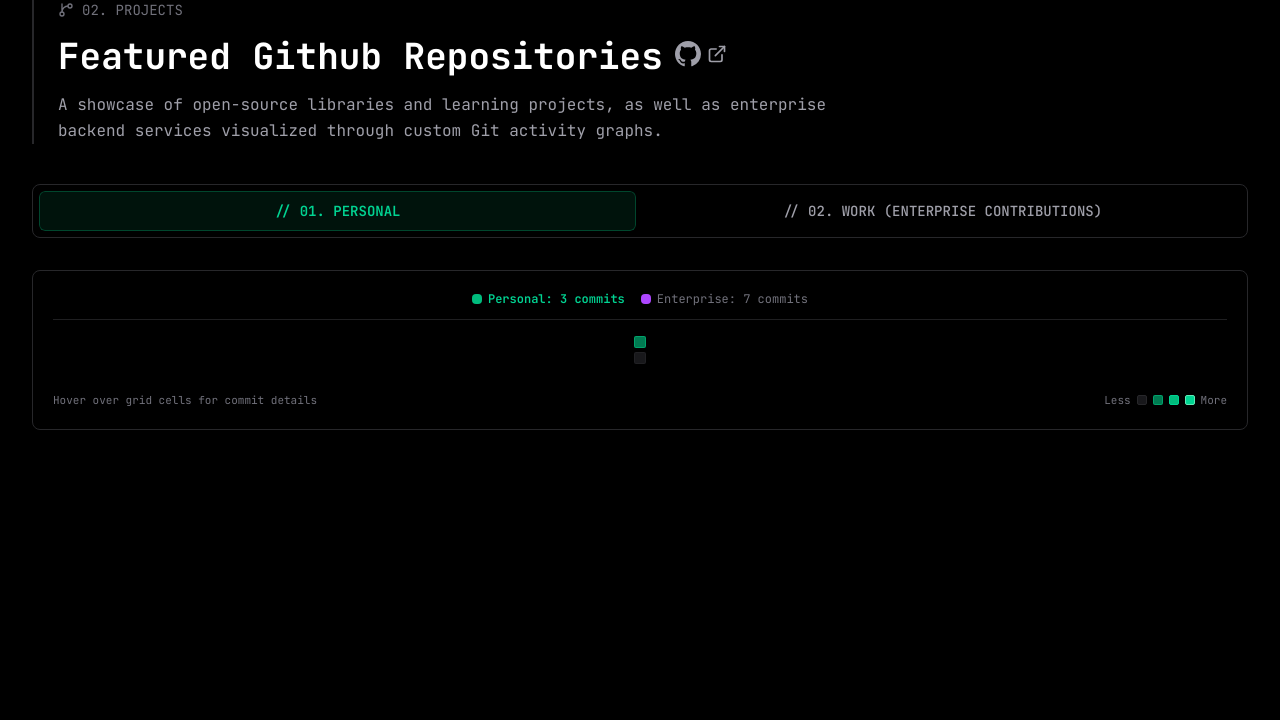
Test: ProjectsSection Component › switches tabs between personal and work projects
The image size is (1280, 720).
expect the text "enterprise-gateway" is not shown: met
Switch to work tab
Click the button "// 02. WORK (ENTERPRISE CONTRIBUTIONS)" at (942, 211), box [644,191,1241,231]
(page scrolled)
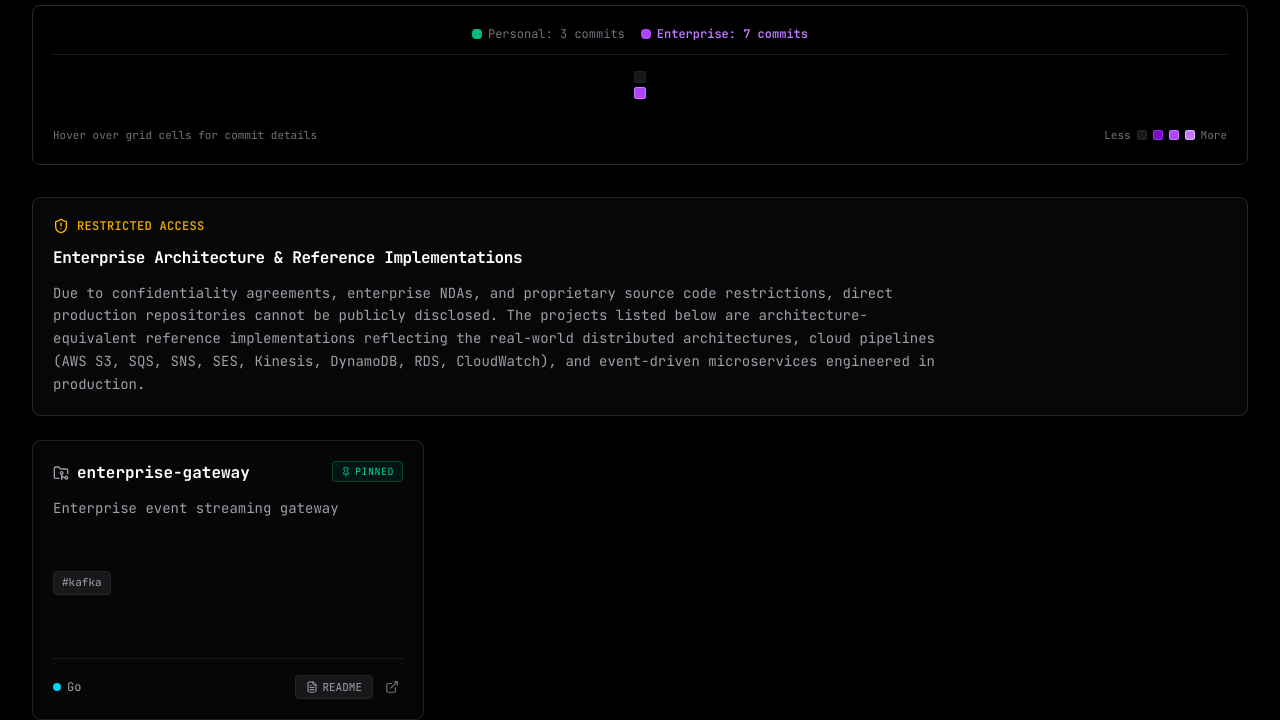
expect the link "enterprise-gateway" is shown: met, box [77,461,250,485]
